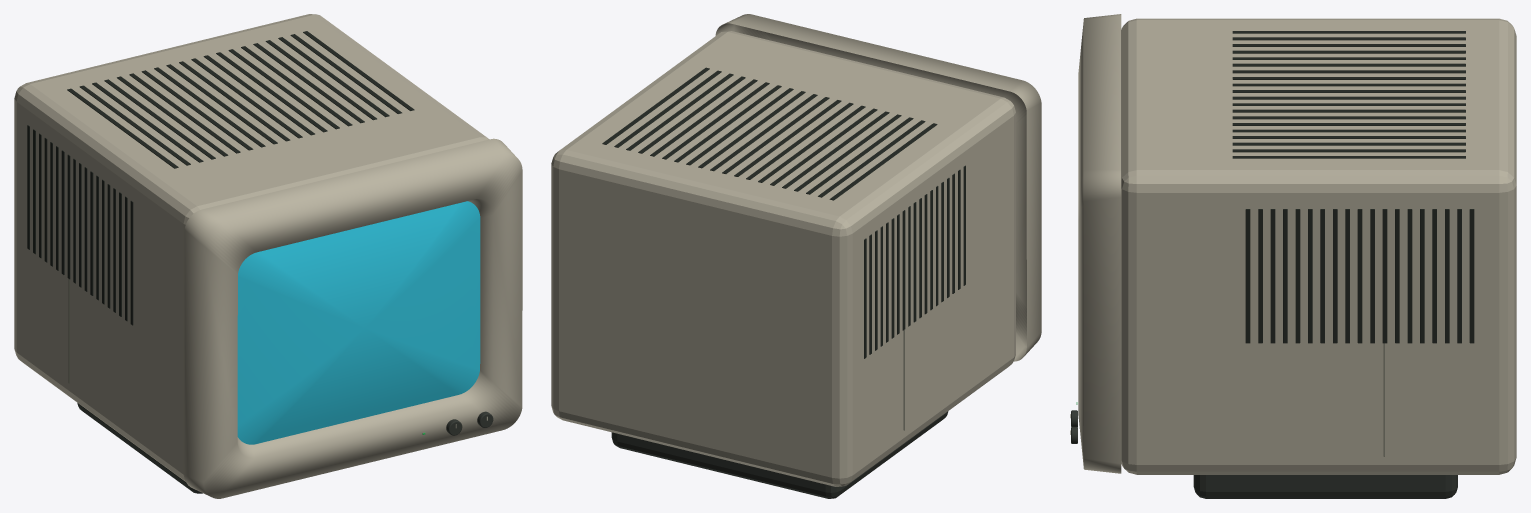
Rendered from crt.glb.
3 views of the same model, side by side, from view 1: azimuth 30°, elevation 25°; view 2: azimuth 150°, elevation 25°; view 3: azimuth 270°, elevation 25° (orthographic). The views are drawn at different scales.
Visible parts, largest first — view 1: Rear shell; view 2: Rear shell; view 3: Rear shell.
Boxes of the visible parts, box(x1,y1,x2,y2) form: Rear shell: box(14, 14, 522, 498); Rear shell: box(551, 14, 1041, 498); Rear shell: box(1070, 14, 1516, 498).
Size of the model in its own units: 0.52 by 0.494 by 0.5732.
